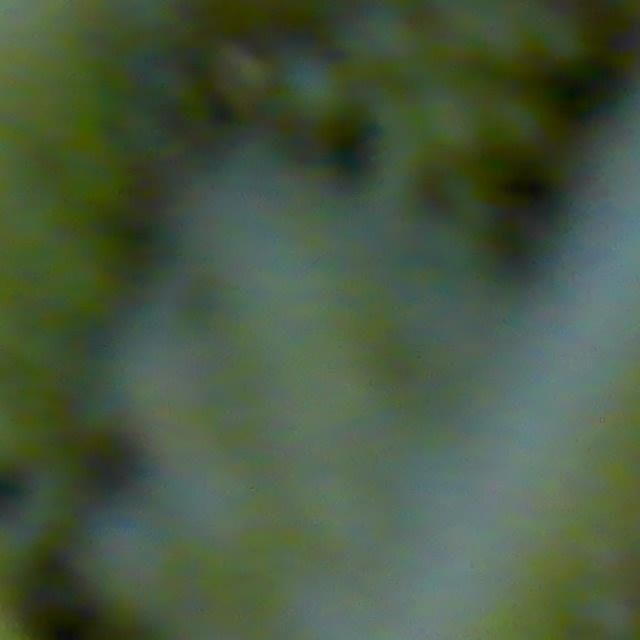SeaGrape: (278, 54, 351, 125)
